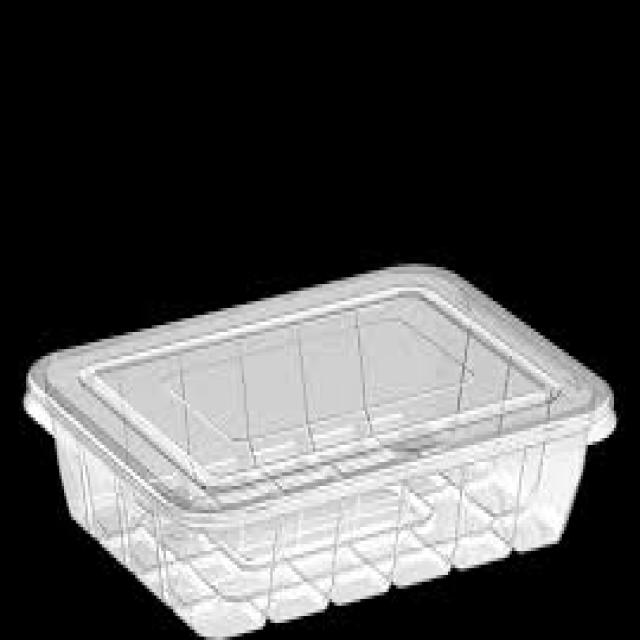disposable: (27, 257, 638, 640)
